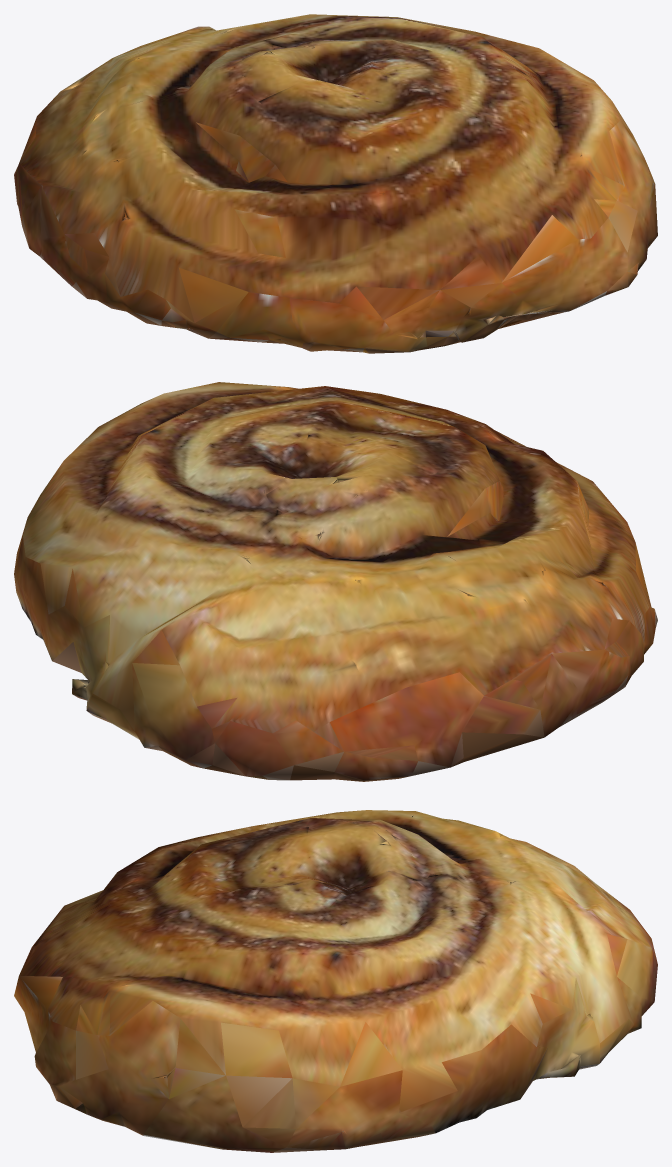
Rendered from cinnamon_1470.obj.
3 renders of one model, top to bottom at view 1: azimuth 30°, elevation 25°; view 2: azimuth 150°, elevation 25°; view 3: azimuth 270°, elevation 25°, orthographic. The views are drawn at different scales.
Size of the model in its own units: 110 by 34 by 115.
1 material, 1 textured.
